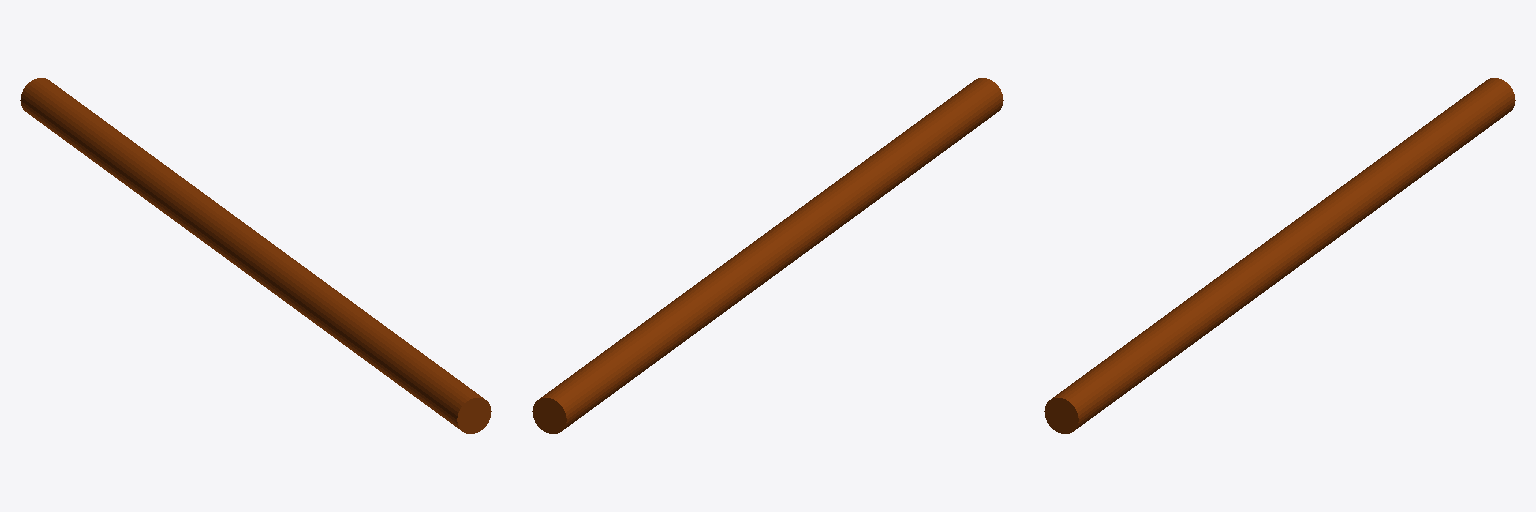
URDF robot description (cylinder):
<?xml version="1.0" ?>
<!-- =================================================================================== -->
<!-- |    This document was autogenerated by xacro from cylinder.xacro                 | -->
<!-- |    EDITING THIS FILE BY HAND IS NOT RECOMMENDED                                 | -->
<!-- =================================================================================== -->
<robot name="cylinder">
  <link name="world"/>
  <link name="base">
    <visual>
      <origin rpy="1.57079633 0 0" xyz="0 0 0"/>
      <geometry>
        <cylinder length="7.07106781185" radius="0.16"/>
      </geometry>
      <material name="cylinder_material">
        <color rgba="0.545 0.271 0.075 1.0"/>
        <texture filename="../textures/tree_bark.jpg"/>
      </material>
    </visual>
    <collision>
      <origin rpy="1.57079633 0 0" xyz="0 0 0"/>
      <geometry>
        <cylinder length="7.07106781185" radius="0.16"/>
      </geometry>
    </collision>
    <inertial>
      <origin rpy="0 0 0" xyz="0 0 0"/>
      <mass value="1"/>
      <inertia ixx="4.173066666648428" ixy="0.0" ixz="0.0" iyy="4.173066666648428" iyz="0.0" izz="24.999999999890573"/>
    </inertial>
  </link>
  <joint name="base_joint" type="fixed">
    <parent link="world"/>
    <child link="base"/>
    <origin rpy="0 0 0" xyz="0.0 0.0 0.0"/>
  </joint>
</robot>

--- What the picture shows (computed from the rendered views, not written in the file) ---
3 views of the same robot in one strip: view 1: azimuth 30°, elevation 25°; view 2: azimuth 150°, elevation 25°; view 3: azimuth 330°, elevation 25° (orthographic).
Robot: cylinder — 2 links, 1 joints (1 fixed); root link world; default pose: every joint at zero.
Links seen in each view (by area): view 1: base; view 2: base; view 3: base.
Boxes of the visible links, <box> form: base: <box>20,78,491,433</box>; base: <box>532,78,1003,433</box>; base: <box>1044,78,1515,433</box>.
Bounding box of the posed robot: 0.32 × 7.07 × 0.32 m (x, y, z).
Geometry: primitives only (box / cylinder / sphere), no mesh files.
